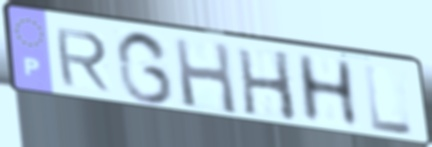G: (113, 29, 177, 107)
H: (170, 35, 241, 118), (292, 51, 363, 128), (234, 45, 301, 125)
L: (361, 62, 417, 138)
R: (52, 26, 114, 94)
